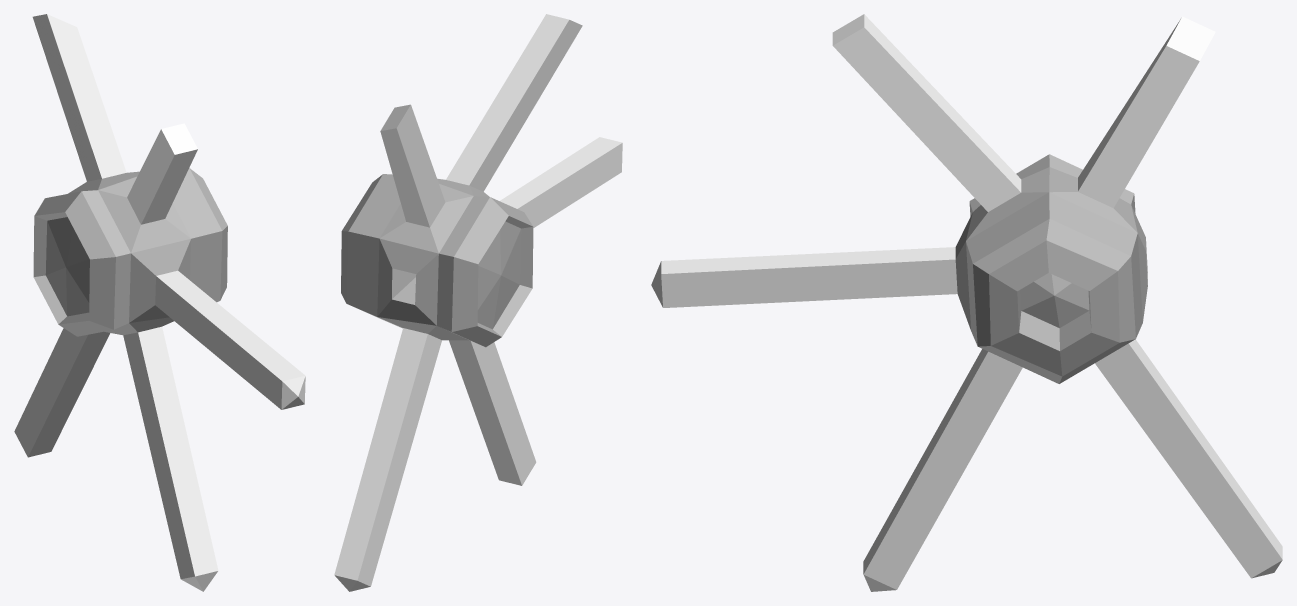
File: PT_Wheel_02.fbx
3 renders of one model, left to right at view 1: azimuth 30°, elevation 25°; view 2: azimuth 150°, elevation 25°; view 3: azimuth 270°, elevation 25°, orthographic. The views are drawn at different scales.
Visible parts, largest first — view 1: PT_Wheel_02; view 2: PT_Wheel_02; view 3: PT_Wheel_02.
Boxes of the visible parts, x1,y1,x2,y2 form: PT_Wheel_02: (14,14,305,591); PT_Wheel_02: (334,14,622,591); PT_Wheel_02: (651,14,1282,591).
Size of the model in its own units: 18.02 by 57.92 by 58.91.
1 material, 1 textured.
